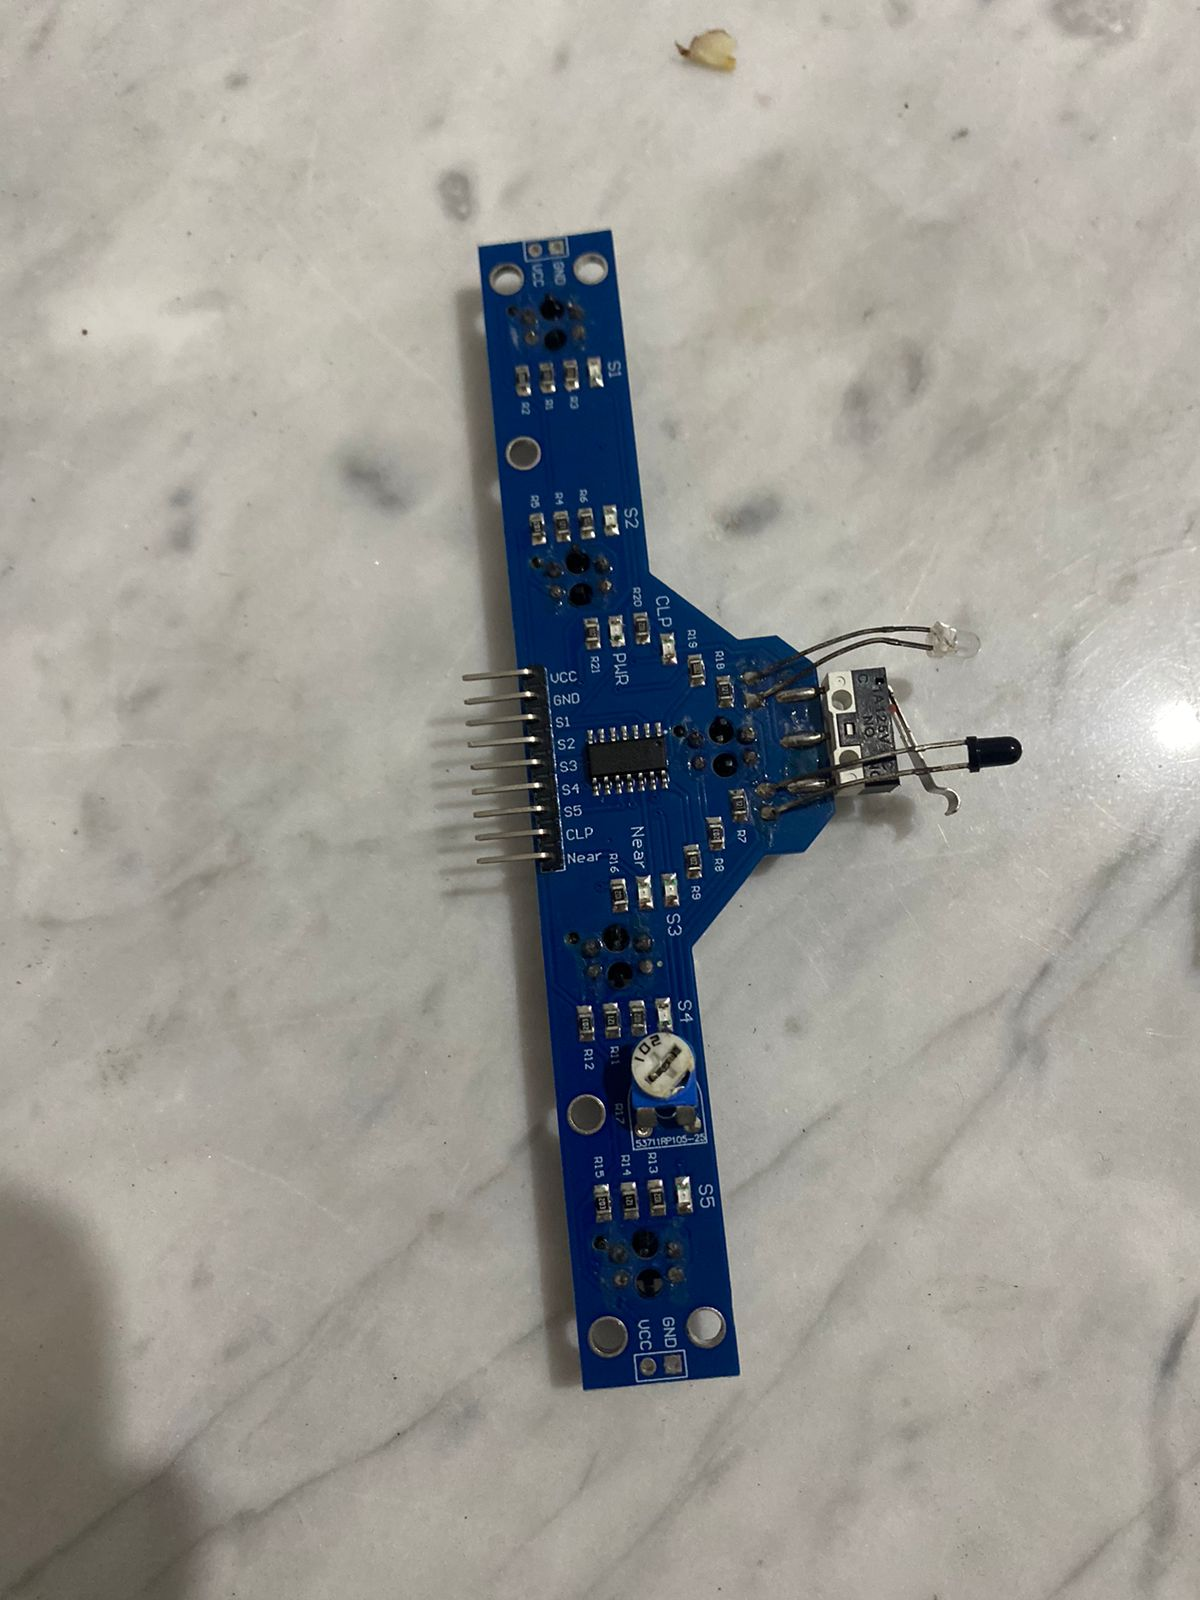Capteur-IR-5 Voies: (431, 227, 1032, 1392)
